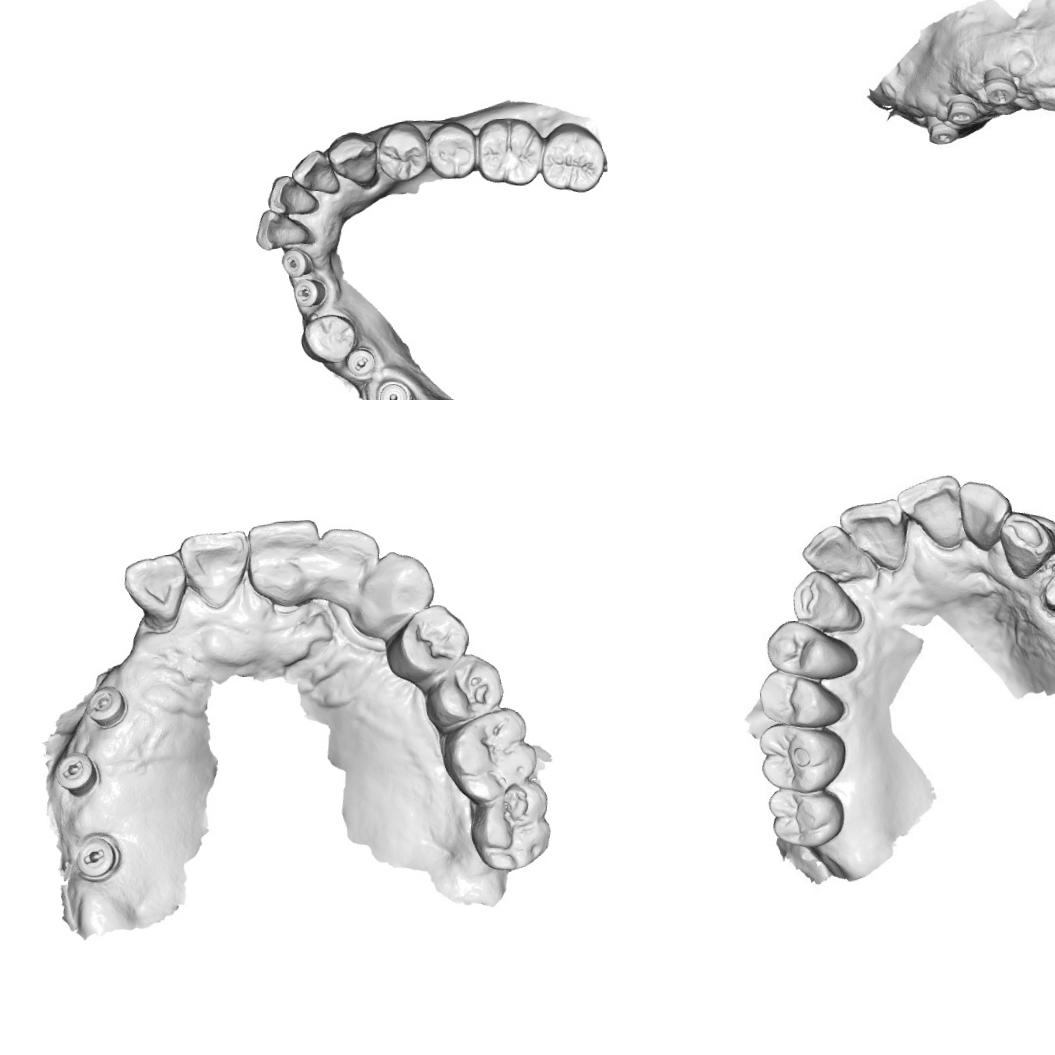canine: (351, 547, 438, 640), (788, 572, 859, 632), (997, 514, 1052, 576), (324, 129, 380, 187)
crown: (1042, 558, 1055, 609)
implant: (373, 377, 412, 400)
implant_minus: (70, 829, 119, 884), (53, 747, 101, 798), (81, 683, 128, 729), (982, 70, 1024, 115), (940, 93, 977, 130), (278, 246, 312, 278), (344, 345, 376, 379), (924, 124, 958, 154)
implant_plus: (290, 274, 327, 310)
incisor: (244, 516, 325, 608), (178, 525, 251, 610), (314, 522, 384, 606), (119, 550, 185, 623), (839, 500, 908, 568), (901, 474, 962, 548), (800, 525, 866, 581), (956, 479, 1008, 550), (252, 206, 311, 251), (288, 147, 342, 196), (264, 172, 320, 216)
molar: (436, 704, 537, 804), (467, 779, 554, 873), (762, 720, 848, 790), (472, 114, 546, 190), (537, 119, 608, 196), (766, 784, 844, 842)
premolar: (390, 602, 472, 678), (427, 650, 509, 724), (763, 617, 853, 677), (758, 670, 838, 724), (374, 119, 430, 184), (298, 310, 360, 366), (424, 118, 478, 180)
